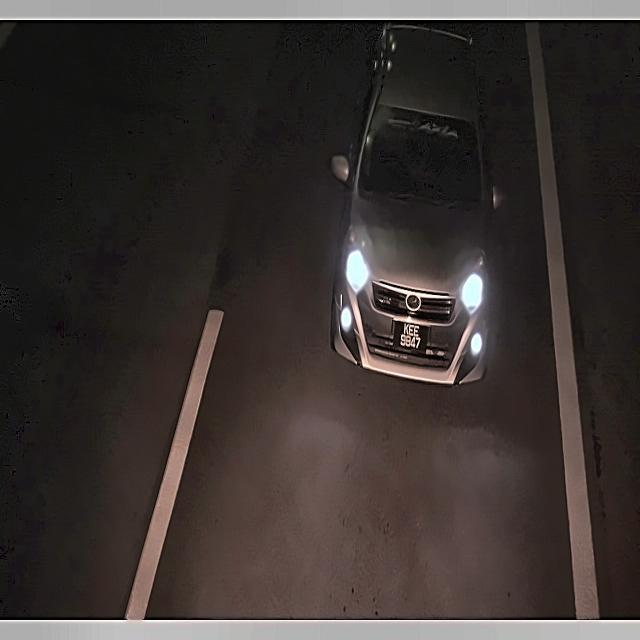car: (393, 315, 426, 359)
